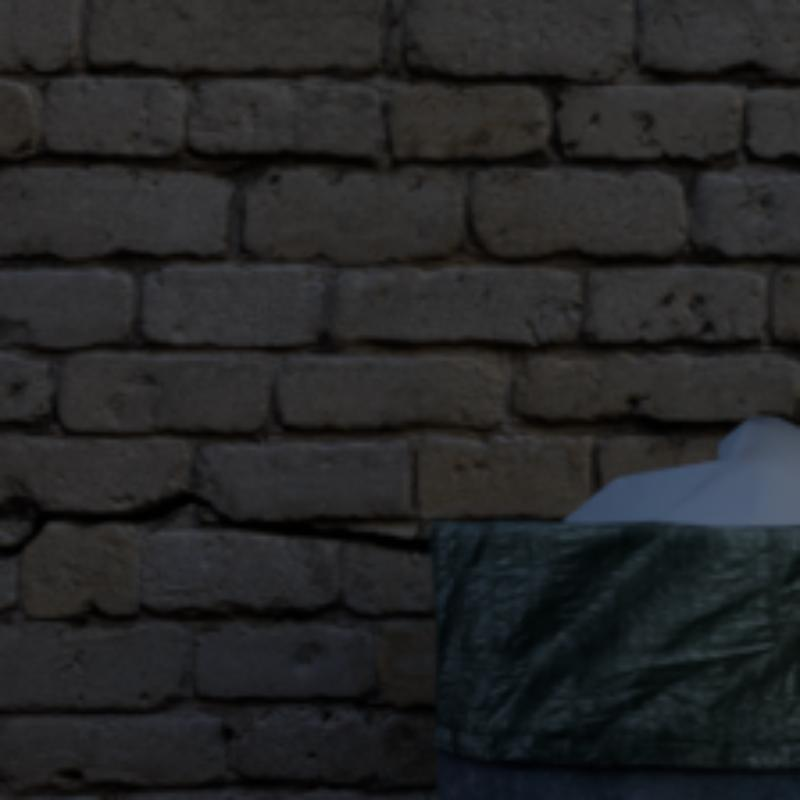crack: (0, 489, 429, 557)
